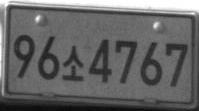4: (88, 37, 112, 82)
6: (139, 41, 162, 86), (37, 35, 59, 81)
7: (114, 39, 138, 84), (164, 42, 188, 87)
9: (13, 32, 36, 78)
소: (62, 45, 84, 82)
